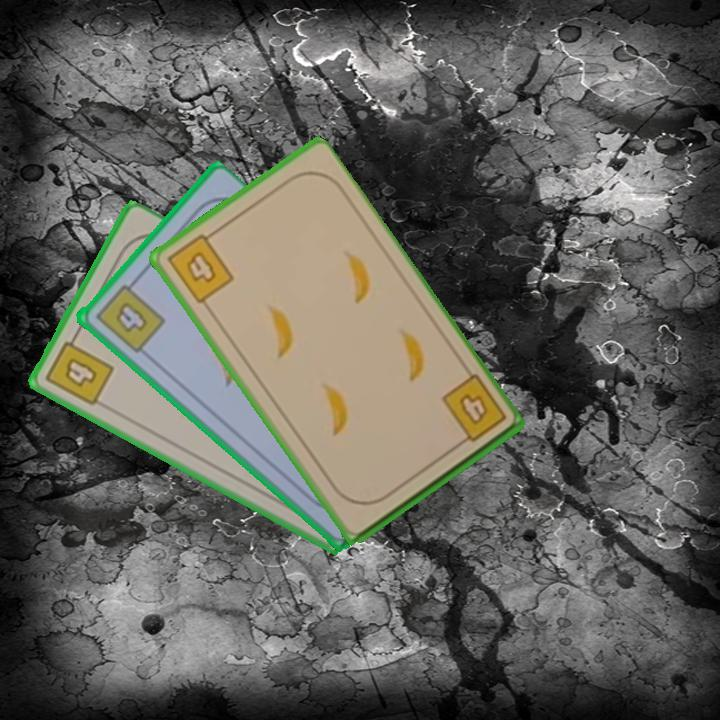4b: (91, 275, 167, 356), (41, 329, 117, 409), (163, 227, 237, 307), (437, 371, 510, 451)
